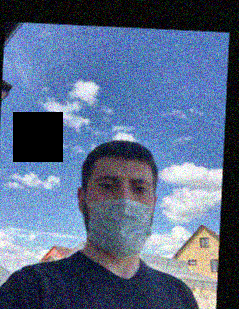with_mask: (85, 170, 154, 260)
